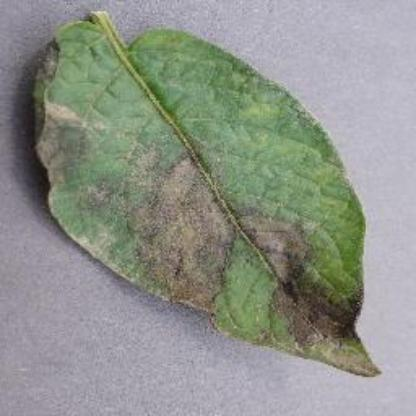Late-Blight: (24, 8, 388, 388)
